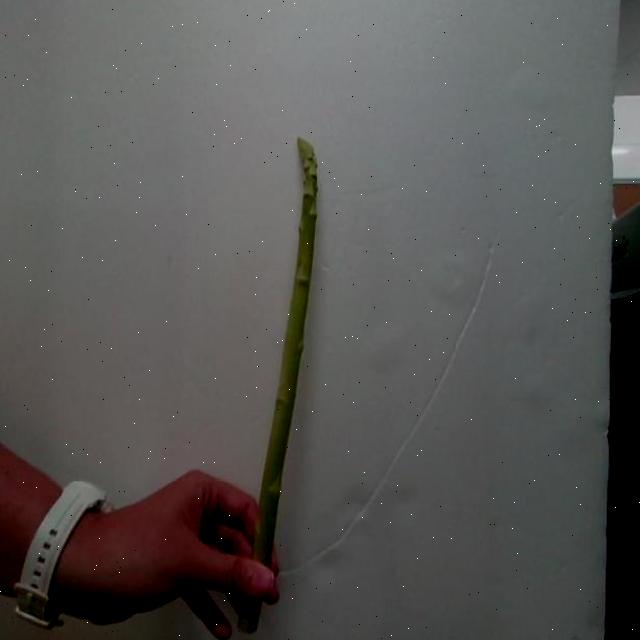aspargus: (252, 139, 317, 570)
